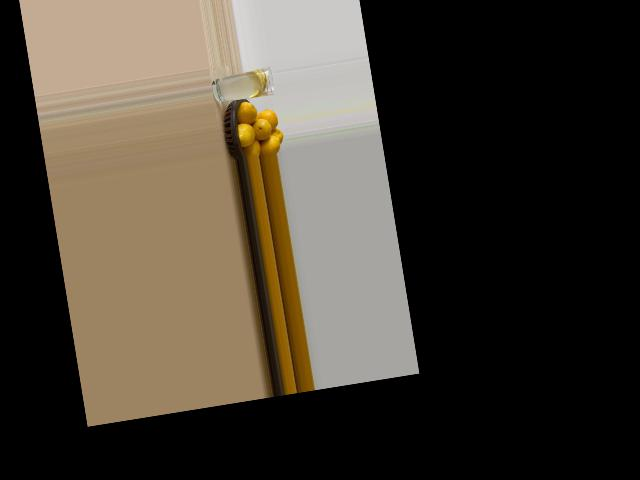lemon: (256, 131, 284, 156)
